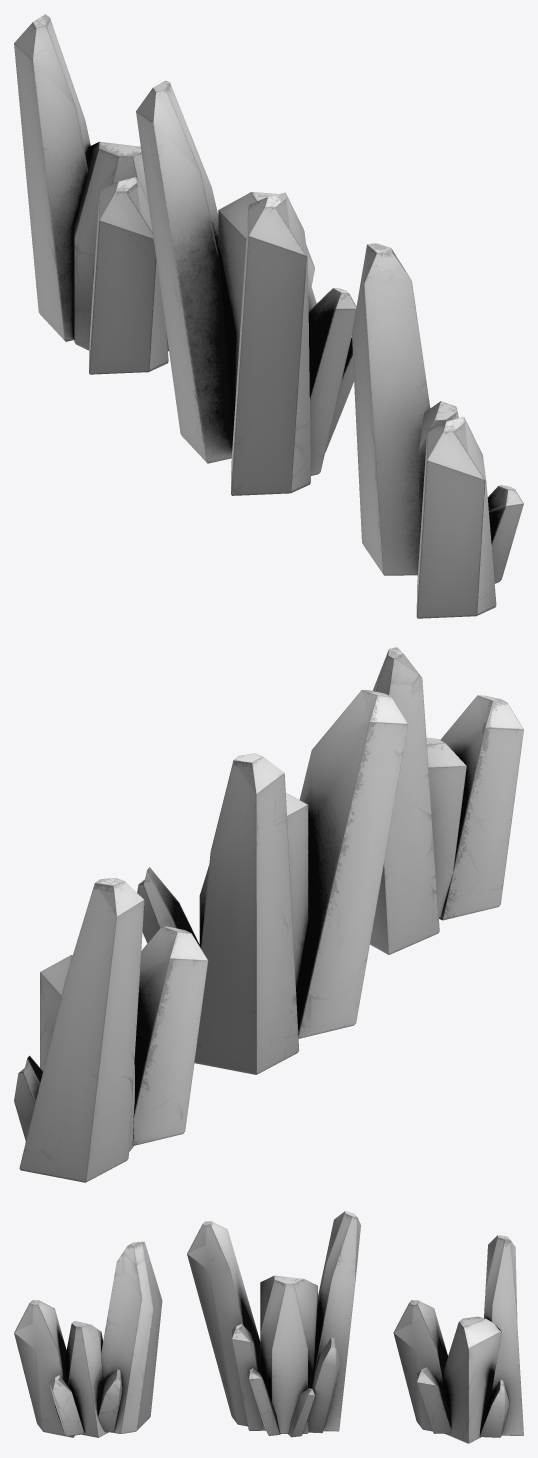
File: Crystals Finals.gltf
3 renders of one model, top to bottom at view 1: azimuth 30°, elevation 25°; view 2: azimuth 150°, elevation 25°; view 3: azimuth 270°, elevation 25°, orthographic. The views are drawn at different scales.
Visible parts, largest first — view 1: Crystal.001, Crystal, Crystal.002; view 2: Crystal.001, Crystal.002, Crystal; view 3: Crystal.001, Crystal, Crystal.002.
Part boxes in pixels (bbox=[...]): Crystal.001: bbox=[136, 80, 356, 495]; Crystal: bbox=[352, 243, 523, 618]; Crystal.002: bbox=[14, 14, 168, 374]; Crystal.001: bbox=[137, 690, 408, 1074]; Crystal.002: bbox=[14, 878, 208, 1182]; Crystal: bbox=[370, 647, 523, 954]; Crystal.001: bbox=[187, 1211, 360, 1437]; Crystal: bbox=[14, 1241, 162, 1437]; Crystal.002: bbox=[393, 1235, 523, 1443].
Size of the model in its own units: 1.27 by 2.46 by 5.68.
1 material, 1 textured.
